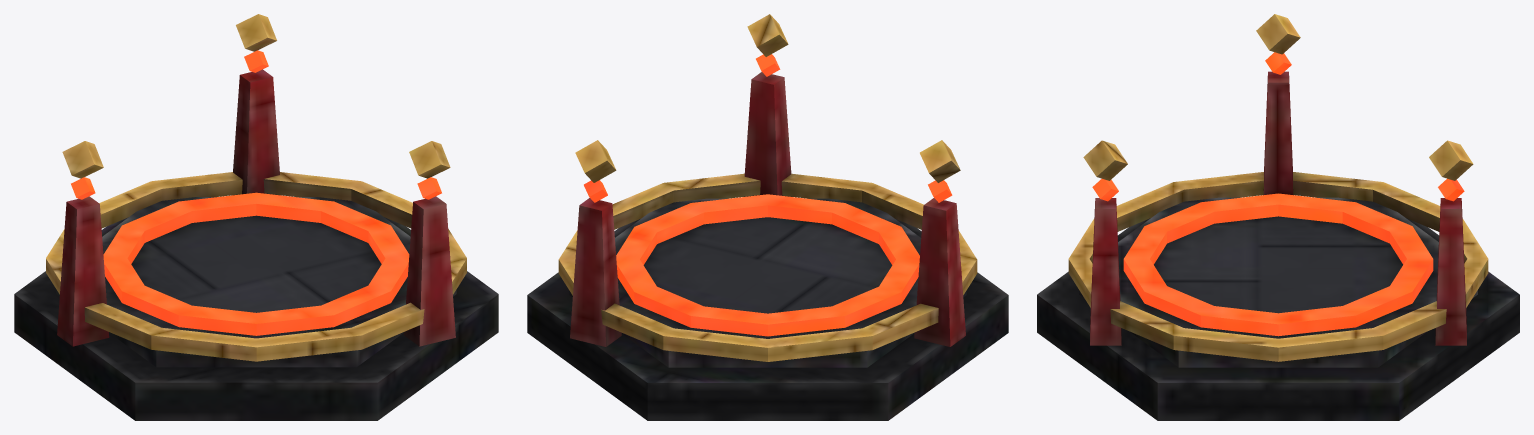
File: u_arcbase3_e.glb
3 renders of one model, left to right at view 1: azimuth 30°, elevation 25°; view 2: azimuth 150°, elevation 25°; view 3: azimuth 270°, elevation 25°, orthographic.
Parts seen in each view (by area): view 1: u_arcbase3_e; view 2: u_arcbase3_e; view 3: u_arcbase3_e.
Boxes of the visible parts, x1,y1,x2,y2 form: u_arcbase3_e: (14, 14, 498, 420); u_arcbase3_e: (527, 14, 1008, 420); u_arcbase3_e: (1037, 14, 1519, 420).
Size of the model in its own units: 0.9471 by 0.569 by 1.06.
1 material, 1 textured.
